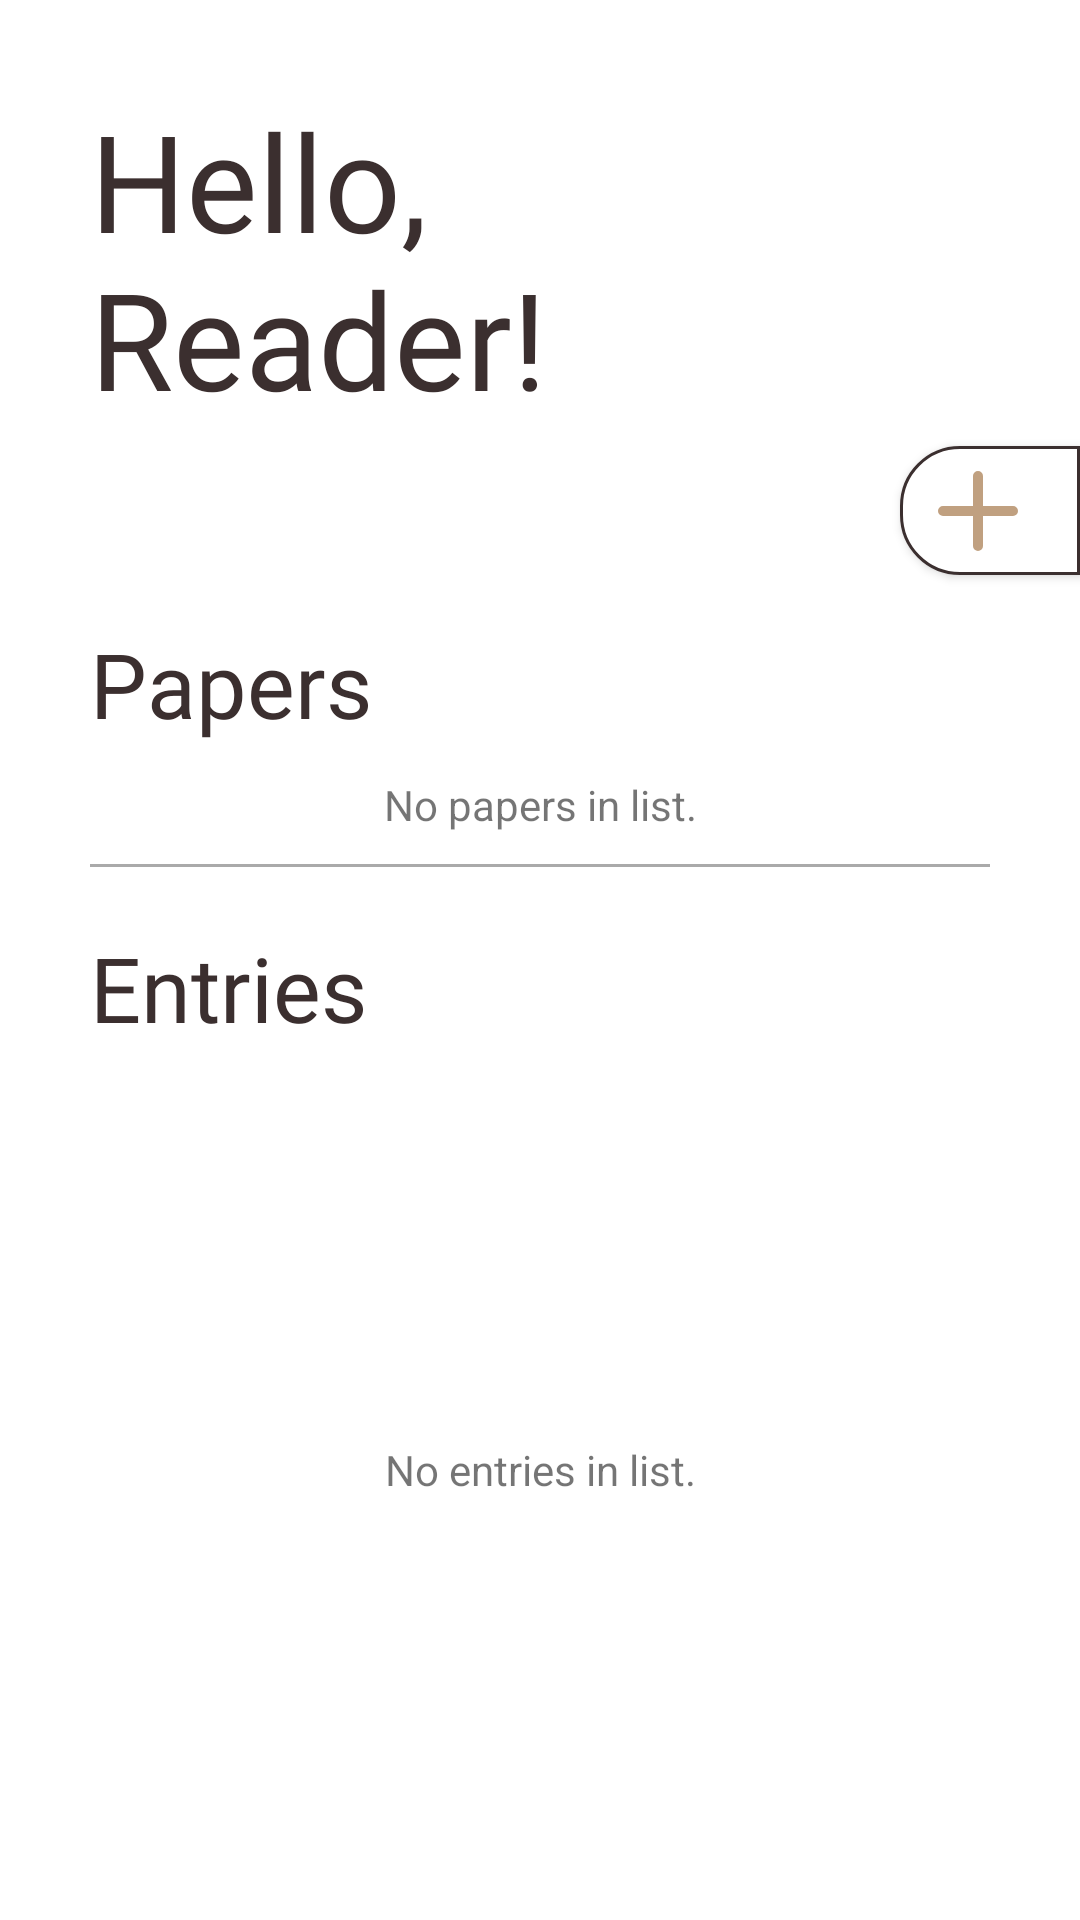

Icon bounding boxes for this 1080w x 1920h phone screenshot, format {"x1": x1, "y1": y1, "x2": x2, "y2": y2}:
Add paper or entry: {"x1": 900, "y1": 446, "x2": 1080, "y2": 576}
